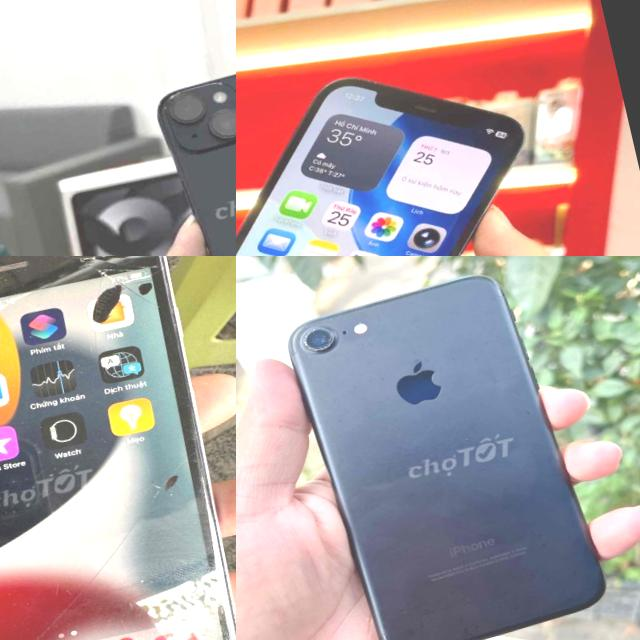physical_damage: (0, 438, 236, 640), (0, 256, 175, 346)
scratch: (370, 274, 482, 306), (298, 321, 344, 359), (385, 629, 461, 640), (515, 392, 535, 418), (375, 371, 388, 381)
